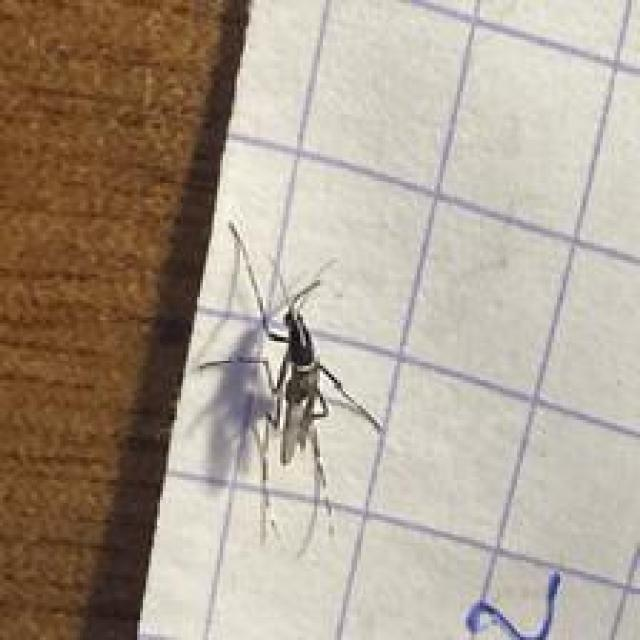Aedes albopictus: (199, 220, 387, 557)
